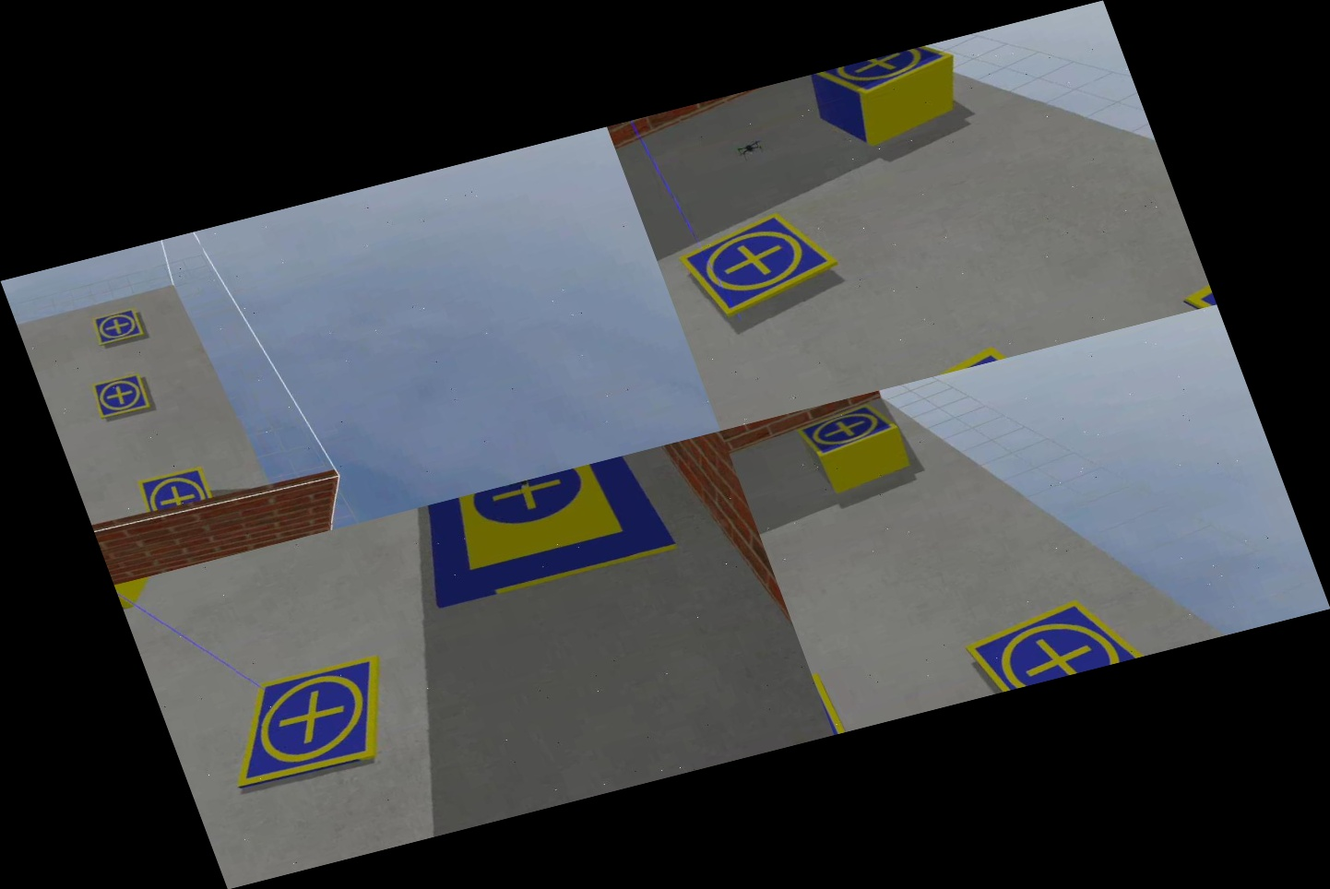large_base: (393, 450, 686, 625)
small_base: (198, 646, 421, 805), (958, 585, 1157, 696), (671, 200, 849, 324), (811, 40, 960, 110), (796, 397, 903, 461), (134, 461, 218, 520), (86, 368, 156, 423), (87, 304, 148, 350)
